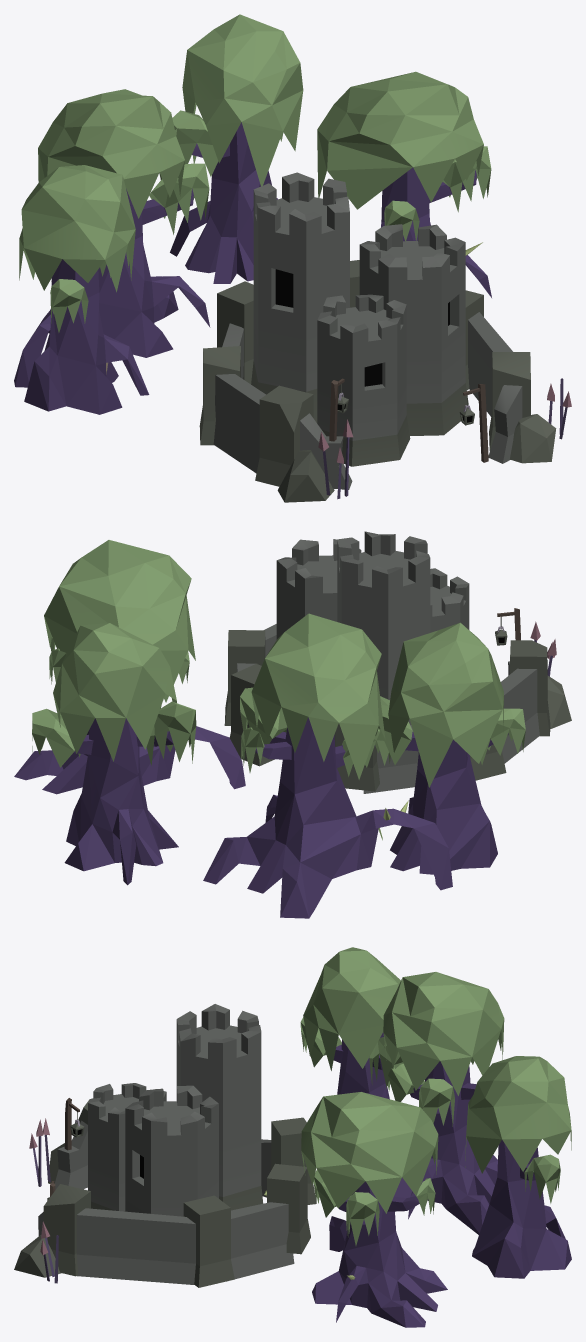
Rendered from townSwamp1.fbx.
3 renders of one model, top to bottom at view 1: azimuth 30°, elevation 25°; view 2: azimuth 150°, elevation 25°; view 3: azimuth 270°, elevation 25°, orthographic. The views are drawn at different scales.
Visible parts, largest first — view 1: townSwamp1; view 2: townSwamp1; view 3: townSwamp1.
Boxes of the visible parts, x1=… form: townSwamp1: x1=14, y1=14, x2=571, y2=502; townSwamp1: x1=14, y1=531, x2=571, y2=918; townSwamp1: x1=14, y1=947, x2=571, y2=1327.
Bounding box in the file's own units: 6.18 × 3.29 × 7.25.
2 materials, 2 textured.
